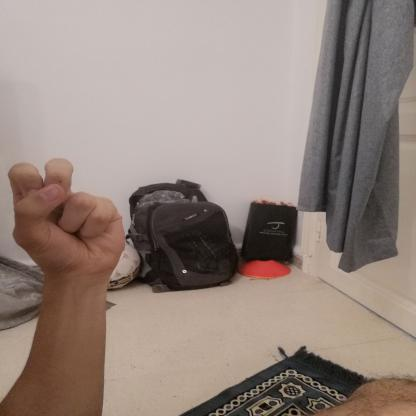QAAF: (2, 148, 144, 281)
